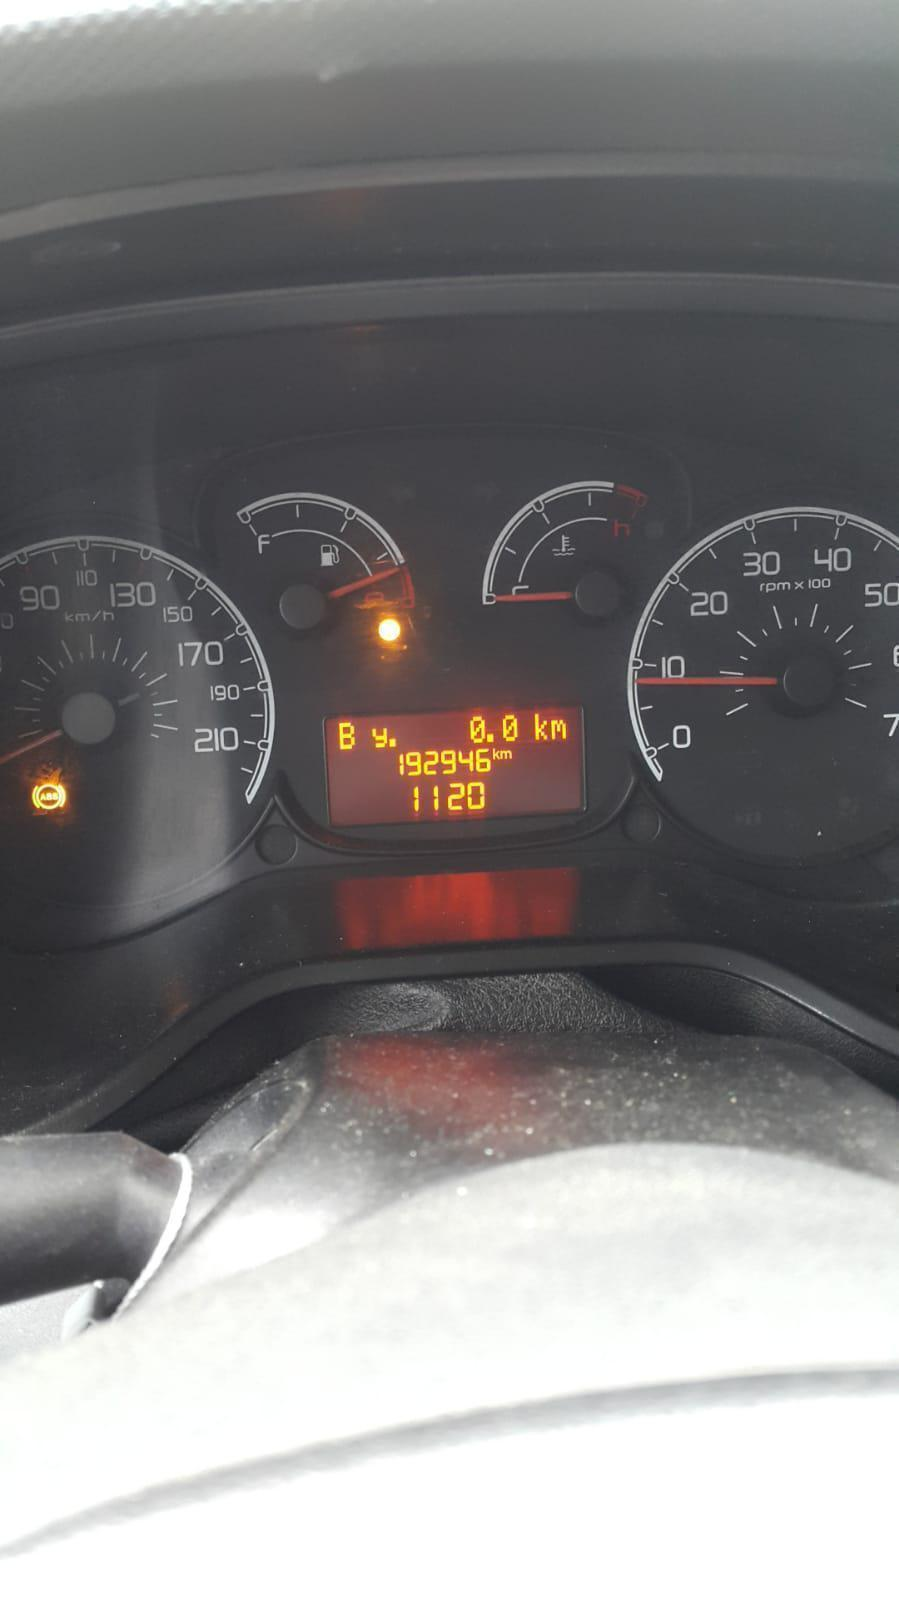,: (485, 731, 496, 743), (387, 735, 396, 749)
0: (467, 780, 485, 810), (468, 714, 486, 743), (501, 714, 517, 742)
1: (411, 783, 422, 814), (431, 783, 440, 812), (398, 751, 407, 778)
2: (446, 781, 465, 812), (423, 749, 438, 776)
4: (457, 747, 475, 773)
6: (475, 747, 492, 772)
9: (406, 750, 422, 778), (440, 748, 456, 774)
X: (335, 719, 356, 750), (547, 716, 568, 741), (531, 711, 548, 742), (369, 725, 387, 751), (492, 746, 501, 761), (501, 749, 512, 761)
odometer: (321, 704, 587, 829)
